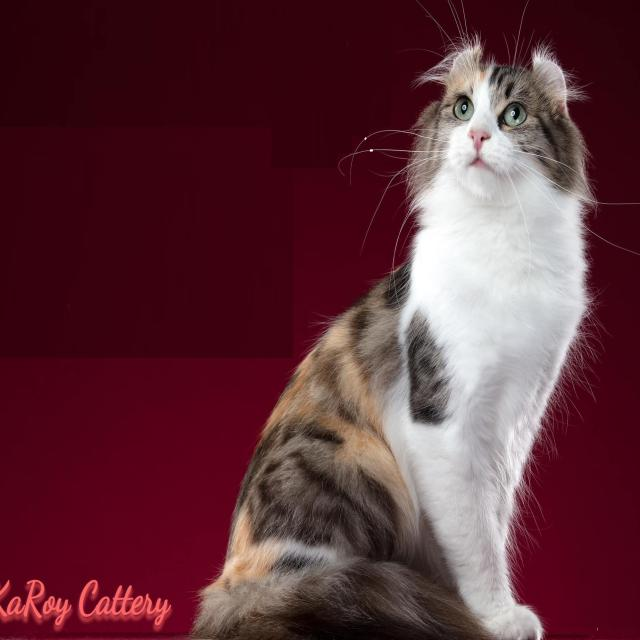American Curl: (184, 35, 598, 640)
